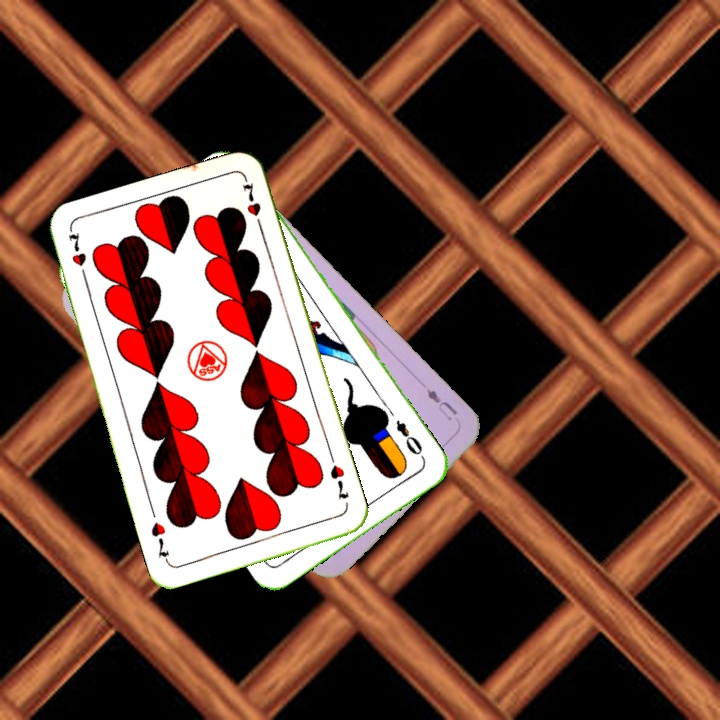EO: (391, 416, 428, 462)
EU: (422, 384, 461, 424)
H7: (64, 227, 91, 285), (326, 461, 351, 503)
